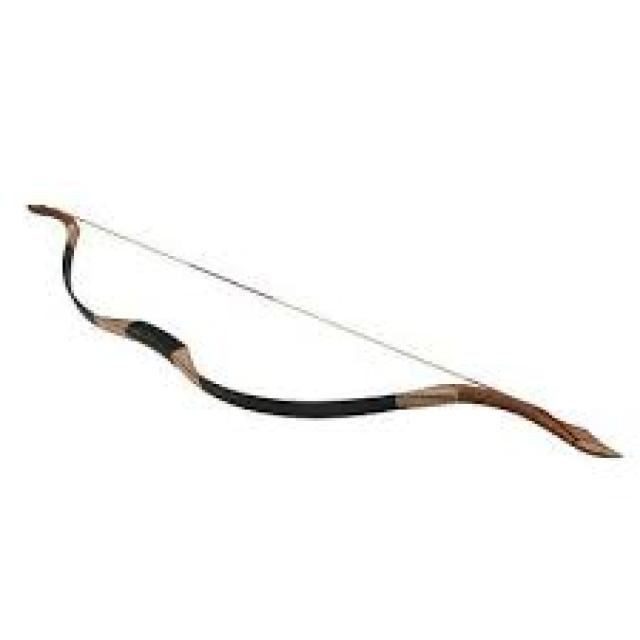X-Bow: (16, 190, 630, 467)
